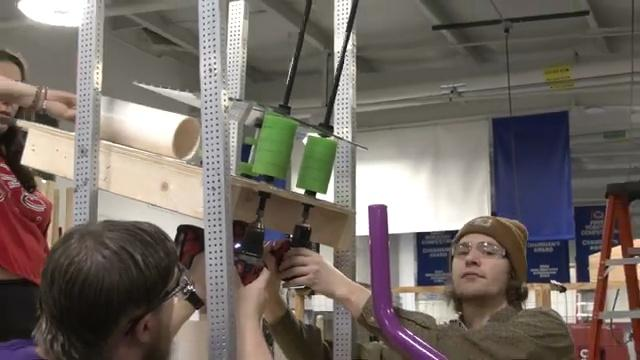CORAL: (99, 96, 201, 161)
